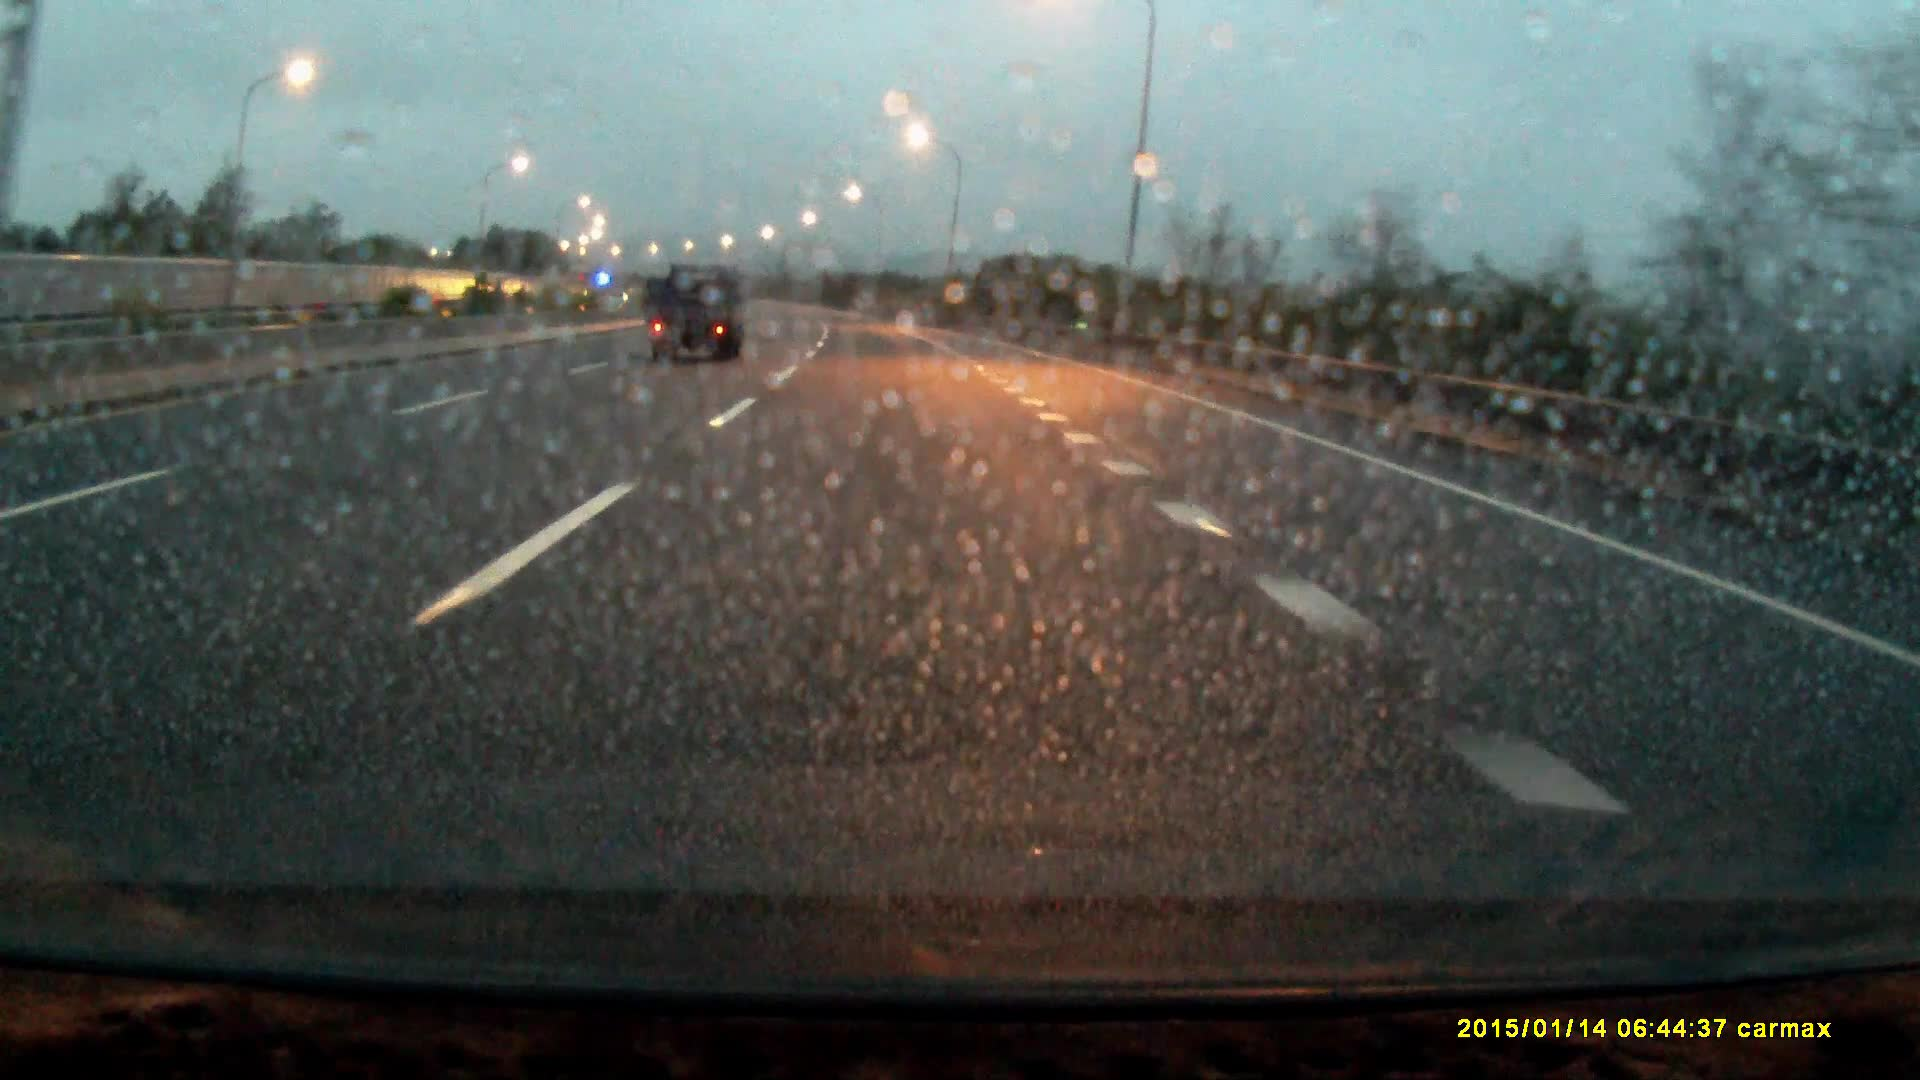vehicle: (647, 256, 748, 367)
